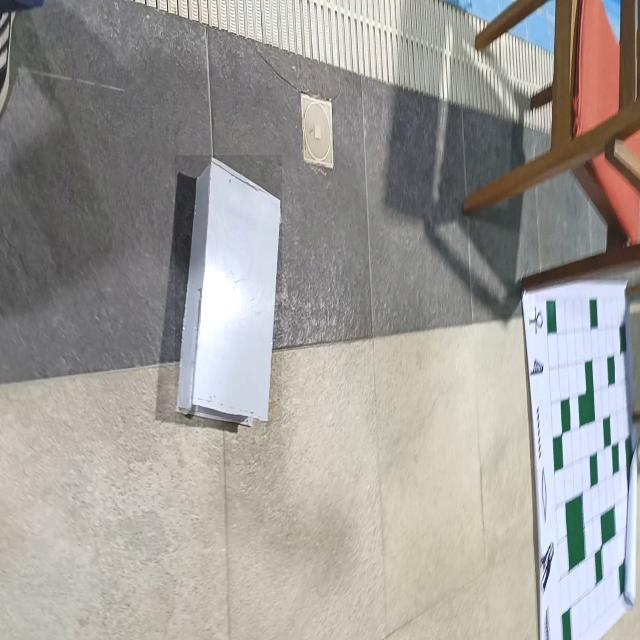Cuboid: (175, 155, 282, 427)
